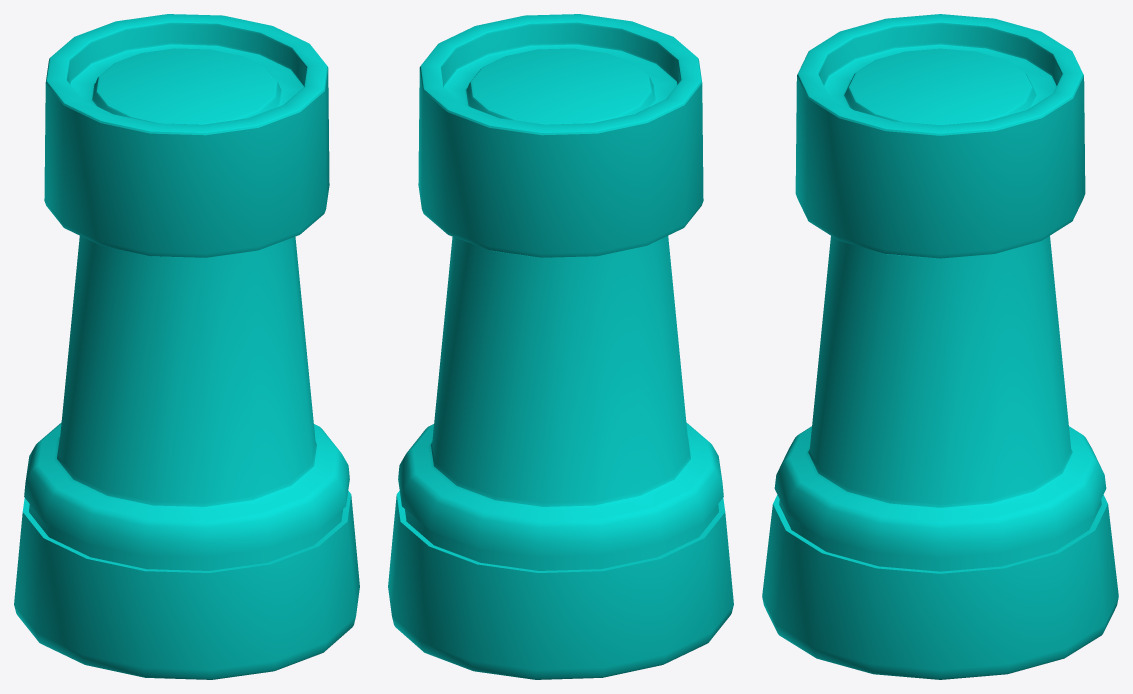
The model's file is kale.fbx.
3 views of the same model, side by side, from view 1: azimuth 30°, elevation 25°; view 2: azimuth 150°, elevation 25°; view 3: azimuth 270°, elevation 25° (orthographic).
Visible parts, largest first — view 1: Rook.White.000; view 2: Rook.White.000; view 3: Rook.White.000.
Part boxes in pixels (left/top/right/bottom): Rook.White.000: left=14, top=14, right=359, bottom=679; Rook.White.000: left=388, top=14, right=733, bottom=679; Rook.White.000: left=762, top=14, right=1118, bottom=679.
Size of the model in its own units: 73.33 by 124 by 75.08.
